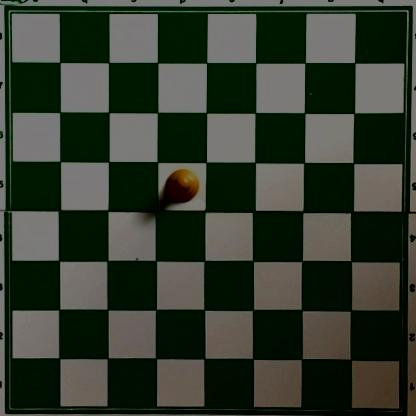white-pawn: (165, 168, 201, 205)
